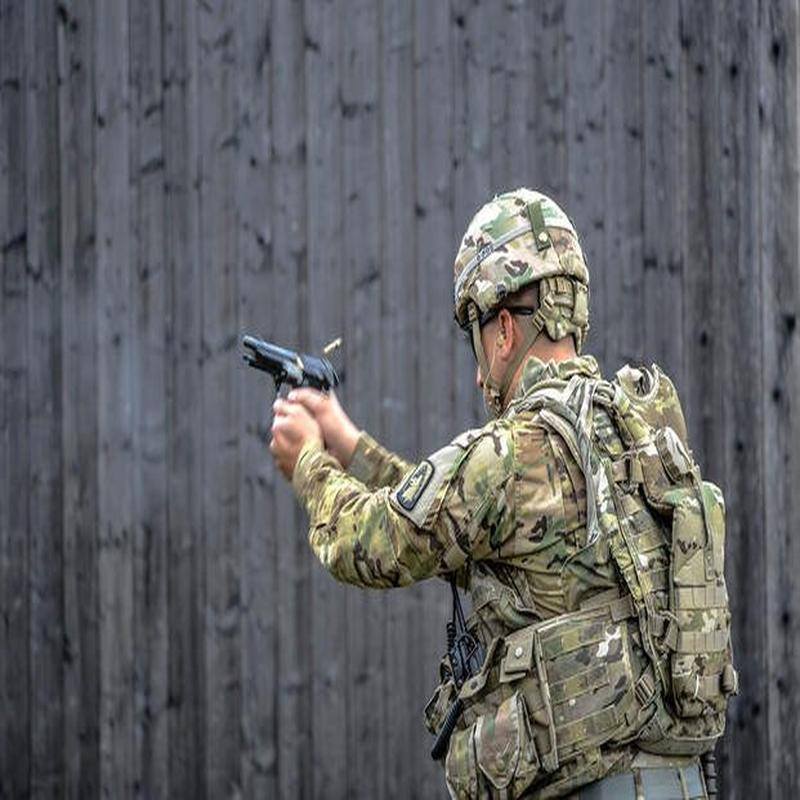GUN: (212, 302, 370, 470)
